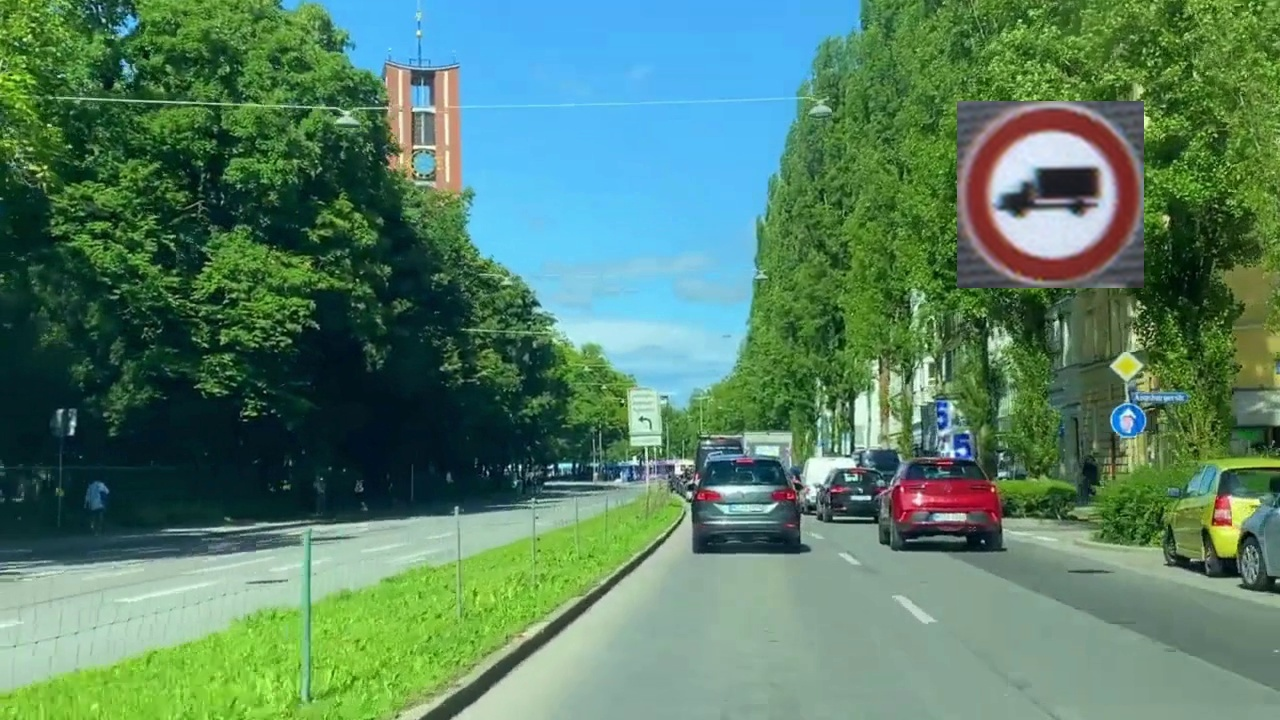Veh >3.5t prohib: (957, 101, 1144, 288)
